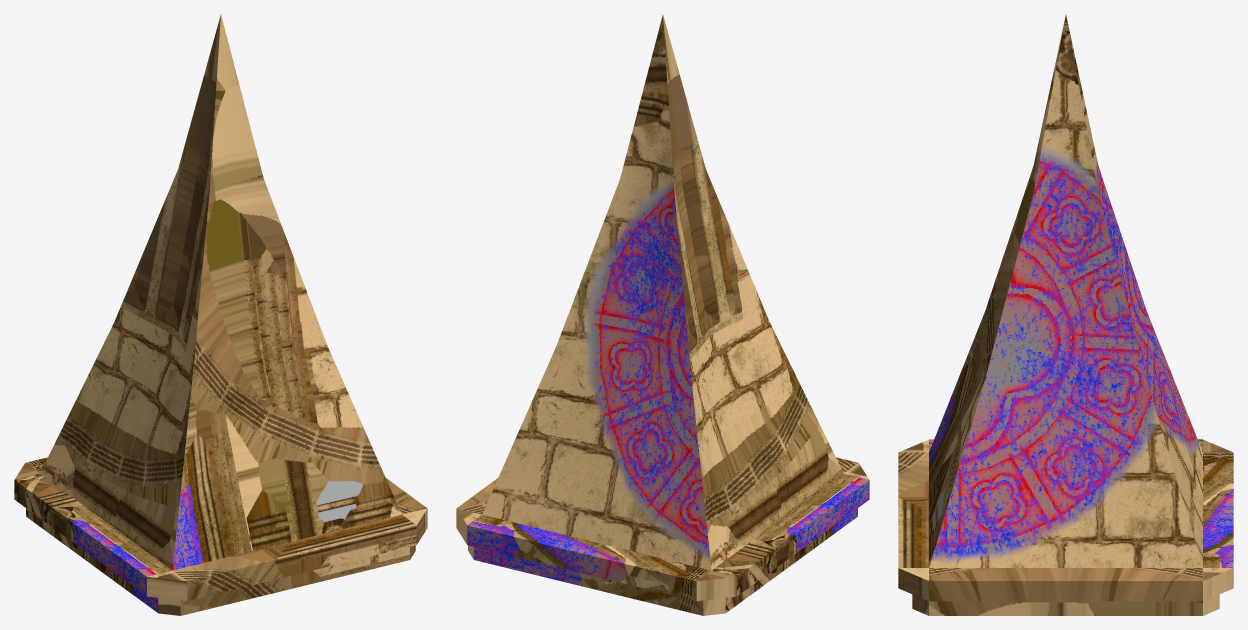
File: SM_PuntaG.fbx
The picture shows the model from 3 angles, left to right: view 1: azimuth 30°, elevation 25°; view 2: azimuth 150°, elevation 25°; view 3: azimuth 270°, elevation 25°; orthographic projection. The views are drawn at different scales.
Visible parts, largest first — view 1: SM_PuntaG; view 2: SM_PuntaG; view 3: SM_PuntaG.
Part boxes in pixels (box(x1,y1,x2,y2)): SM_PuntaG: box(14, 15, 427, 615); SM_PuntaG: box(456, 15, 869, 615); SM_PuntaG: box(898, 15, 1233, 615).
Bounding box in the file's own units: 367 × 649 × 367.
